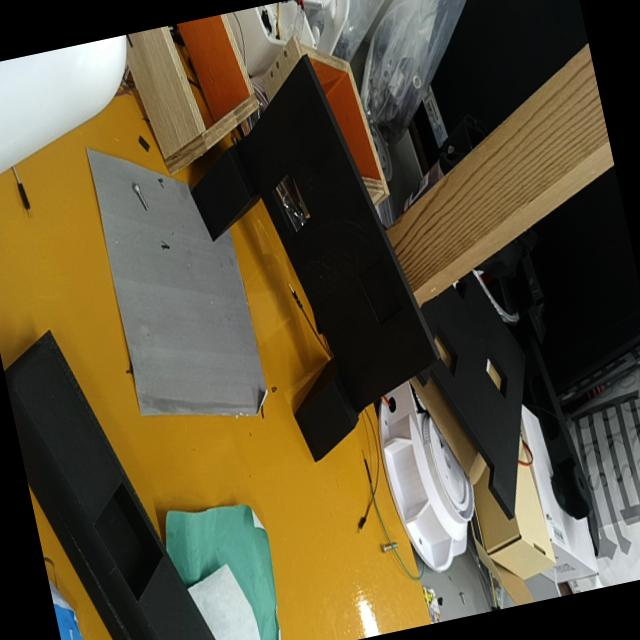Obstacle: (273, 168, 309, 233)
Wall: (240, 58, 436, 414)
